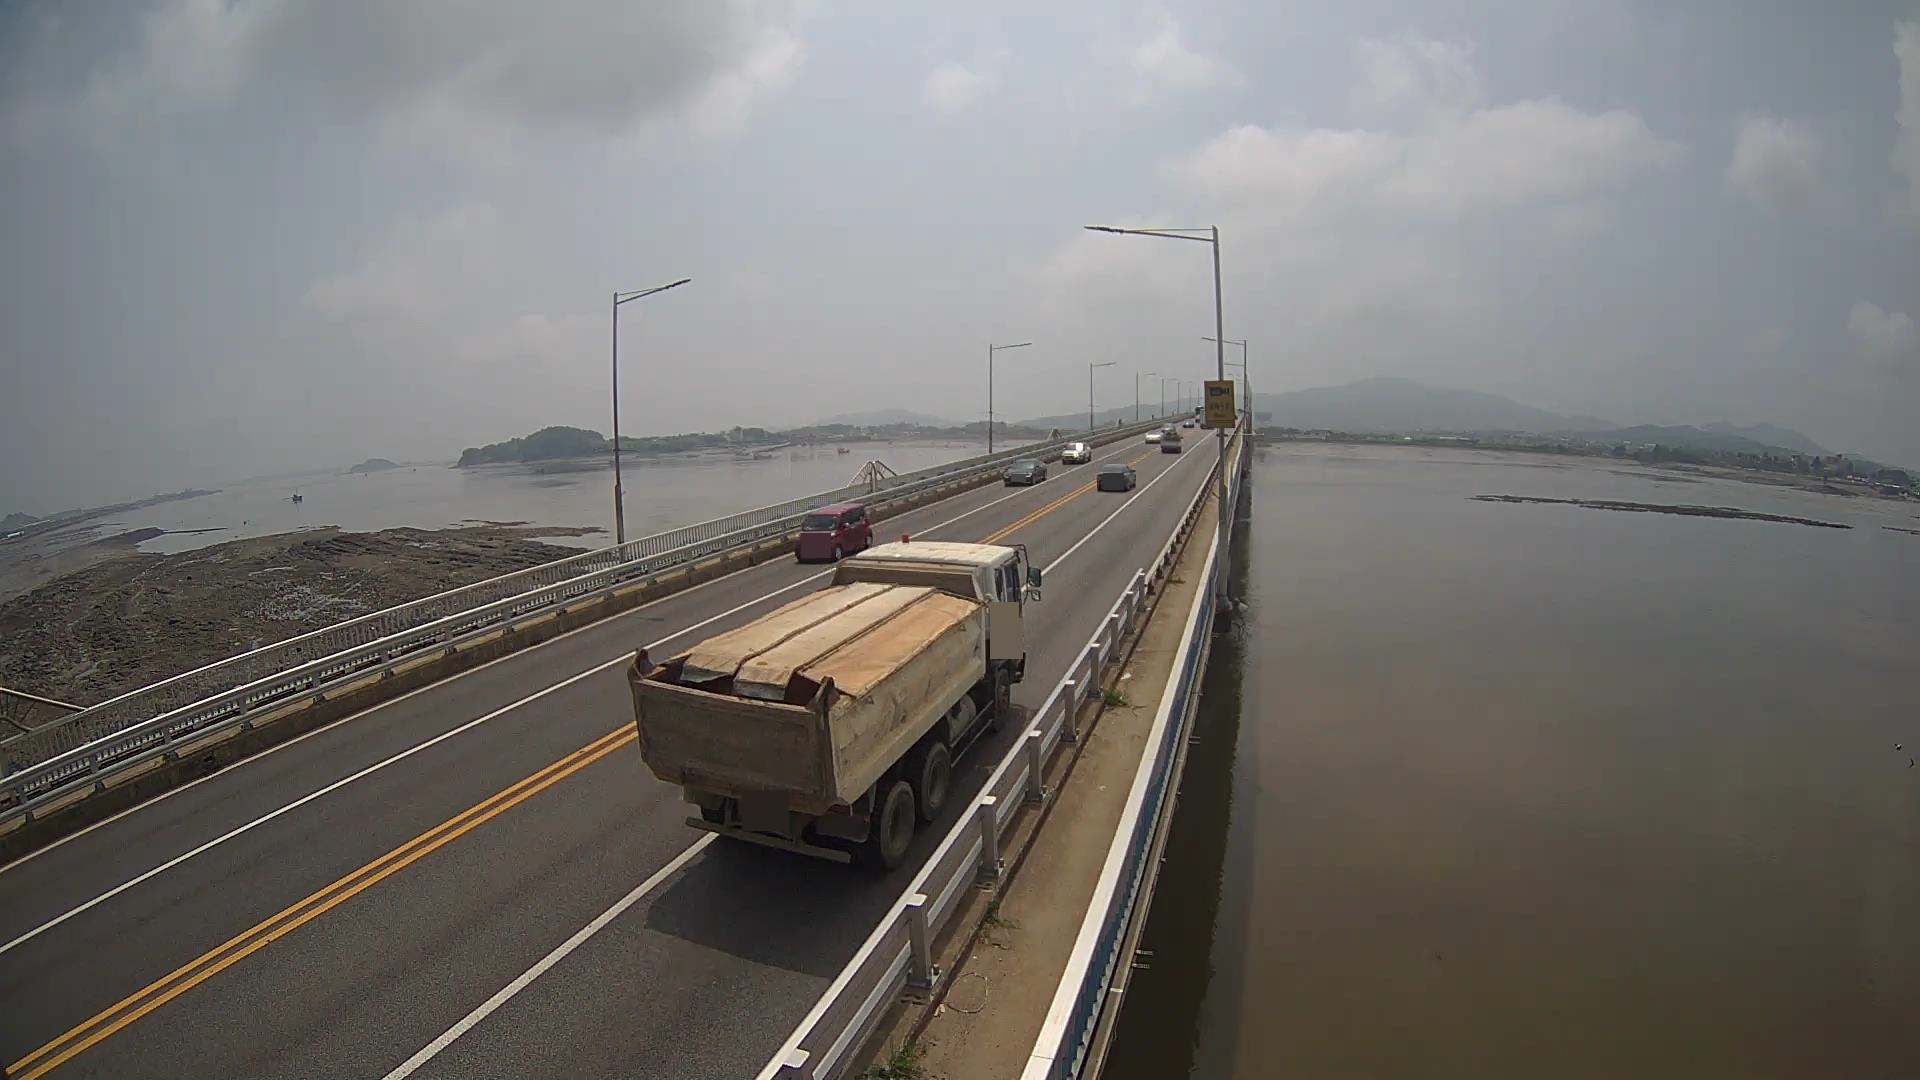정상차량: (628, 534, 1040, 869)
